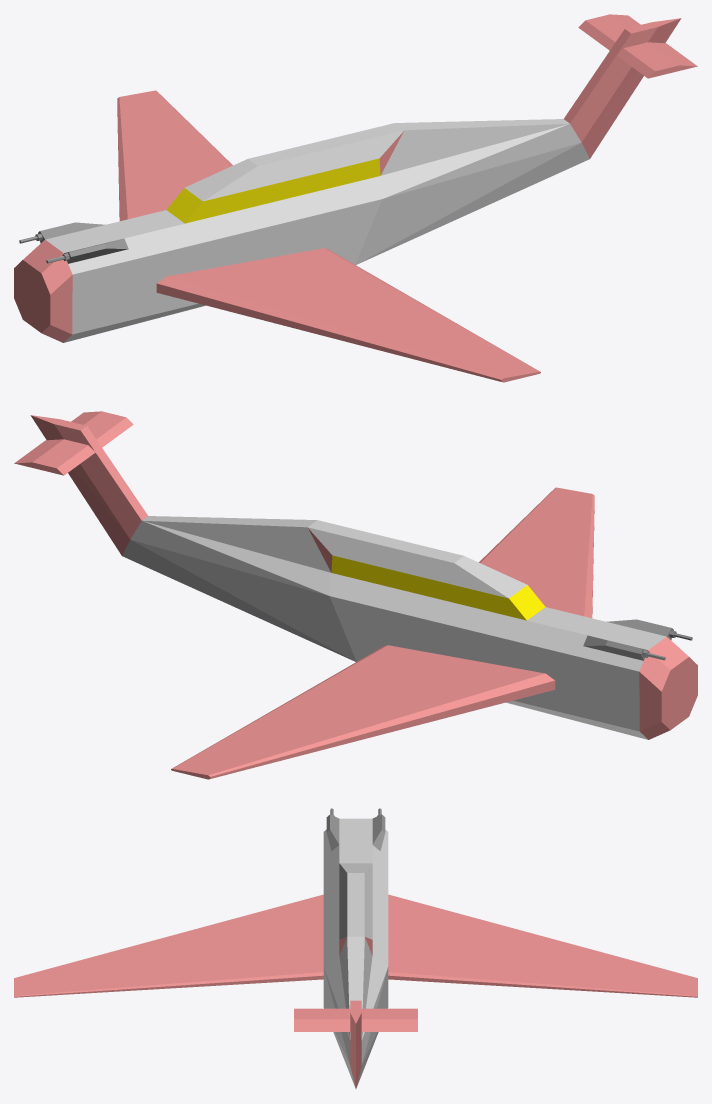
Rendered from Falcon G2.fbx.
The picture shows the model from 3 angles, top to bottom: view 1: azimuth 30°, elevation 25°; view 2: azimuth 150°, elevation 25°; view 3: azimuth 270°, elevation 25°; orthographic projection. The views are drawn at different scales.
Parts seen in each view (by area): view 1: Falcon G2; view 2: Falcon G2; view 3: Falcon G2.
Boxes of the visible parts, bbox=[...] form: Falcon G2: bbox=[14, 14, 697, 382]; Falcon G2: bbox=[14, 411, 697, 779]; Falcon G2: bbox=[14, 808, 697, 1088].
Bounding box in the file's own units: 805 × 196 × 826.
